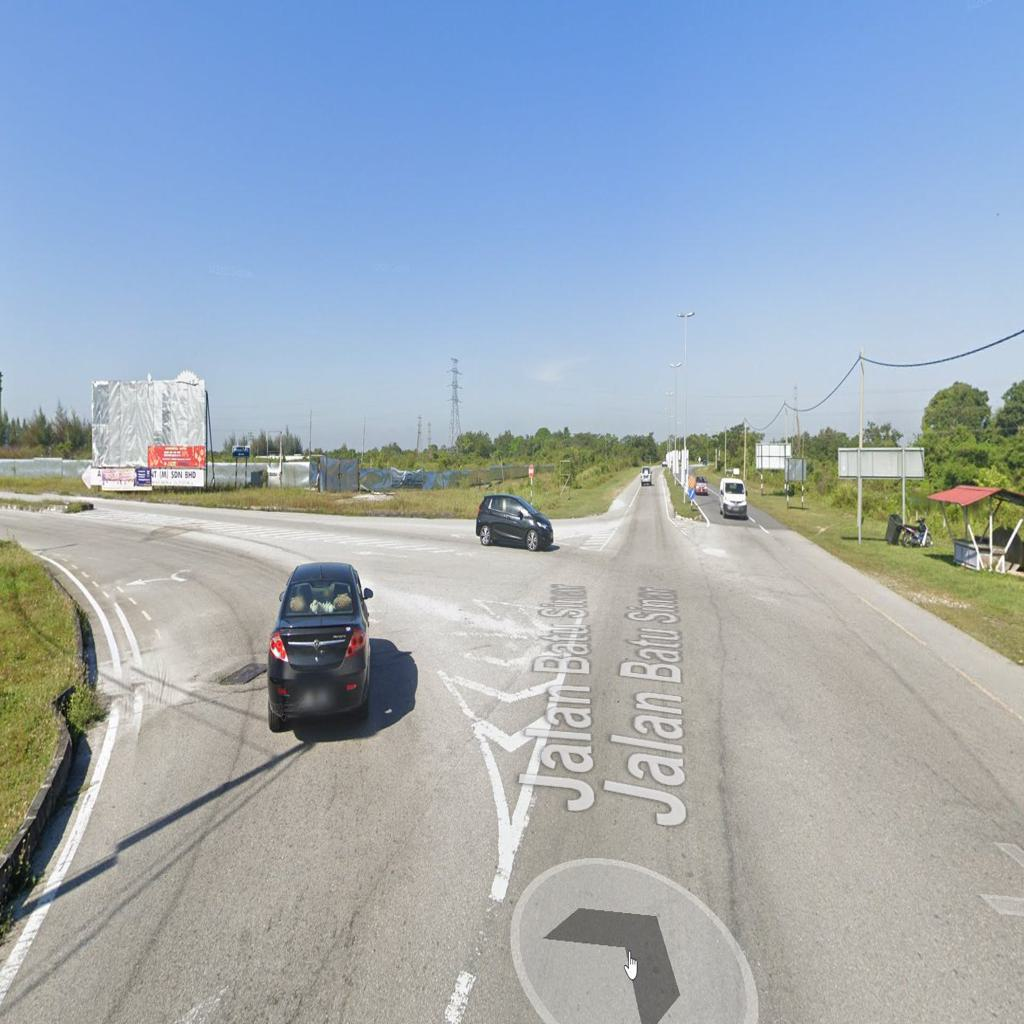Junction: (4, 443, 614, 853)
